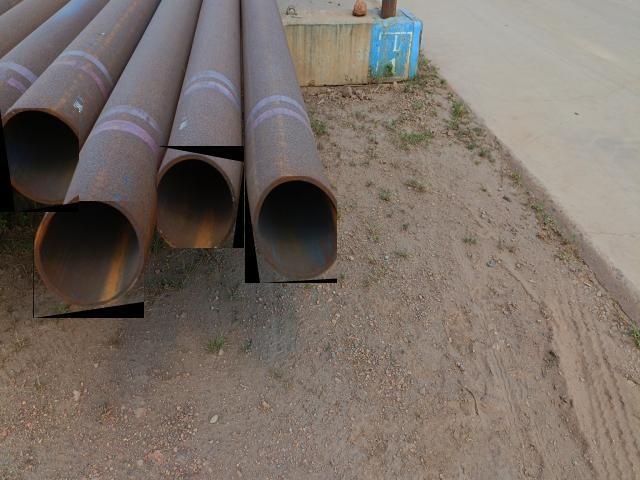pipe: (33, 201, 144, 318), (245, 176, 337, 283), (157, 146, 244, 248), (0, 108, 79, 212)
